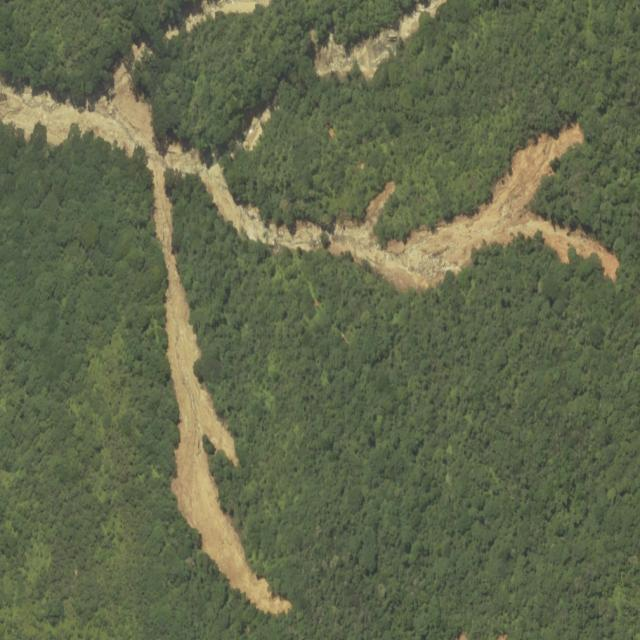landslide: (0, 62, 620, 614)
